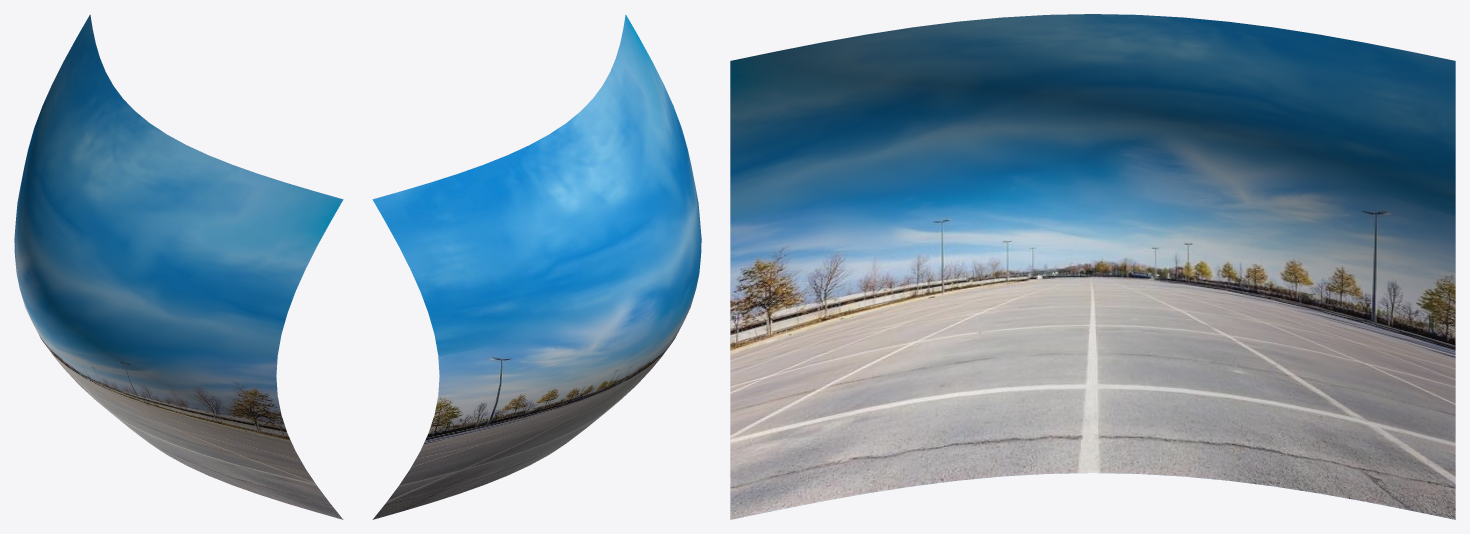
File: fake skybox.fbx
3 views of the same model, side by side, from view 1: azimuth 30°, elevation 25°; view 2: azimuth 150°, elevation 25°; view 3: azimuth 270°, elevation 25° (orthographic). The views are drawn at different scales.
Visible parts, largest first — view 1: Plane; view 2: Plane; view 3: Plane.
Part boxes in pixels (<box>): Plane: <box>14,14,343,519</box>; Plane: <box>372,14,701,519</box>; Plane: <box>730,14,1455,519</box>.
Size of the model in its own units: 2291 by 4134 by 5920.
Materials: 1 (1 with a texture image).
